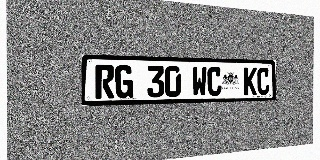0: (165, 66, 181, 97)
3: (147, 65, 164, 98)
C: (207, 67, 222, 96), (257, 68, 269, 95)
G: (115, 65, 133, 98)
K: (244, 67, 257, 95)
R: (95, 65, 114, 99)
W: (192, 66, 207, 97)
